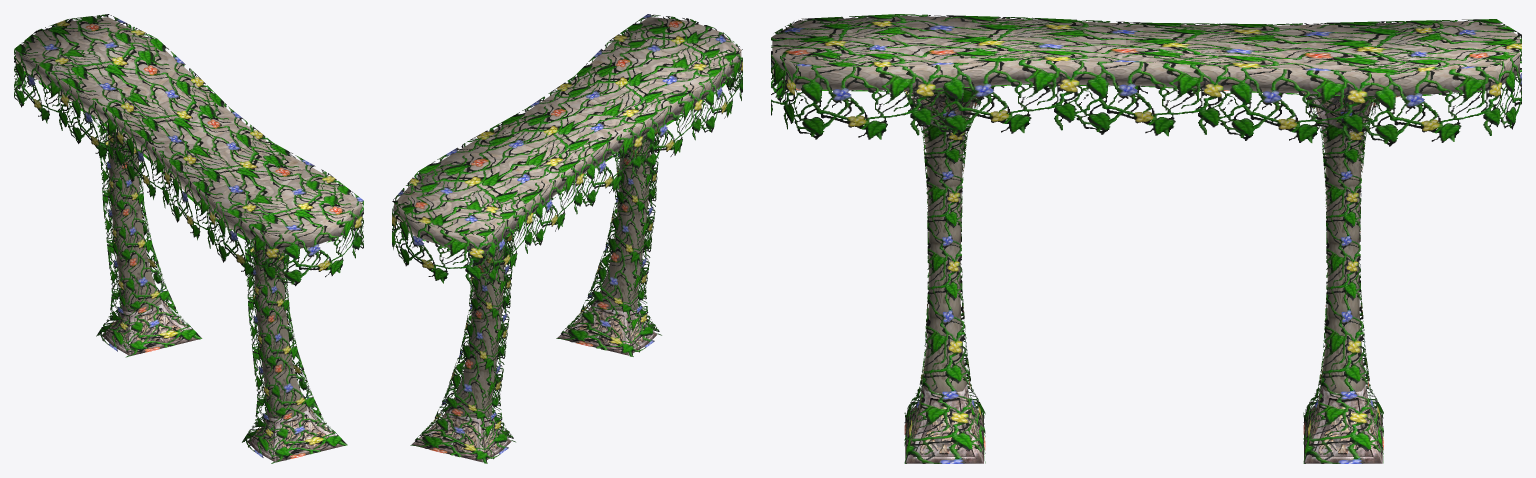
The model's file is EKH_THRONE_PS_TH_PILLAR48847__GX.fbx.
3 renders of one model, left to right at view 1: azimuth 30°, elevation 25°; view 2: azimuth 150°, elevation 25°; view 3: azimuth 270°, elevation 25°, orthographic. The views are drawn at different scales.
Parts seen in each view (by area): view 1: EKH_THRONE_PS_TH_PILLAR48847__GX; view 2: EKH_THRONE_PS_TH_PILLAR48847__GX; view 3: EKH_THRONE_PS_TH_PILLAR48847__GX.
Part boxes in pixels (x1,y1,x2,y2): EKH_THRONE_PS_TH_PILLAR48847__GX: [14, 14, 363, 463]; EKH_THRONE_PS_TH_PILLAR48847__GX: [392, 14, 742, 463]; EKH_THRONE_PS_TH_PILLAR48847__GX: [771, 14, 1521, 463].
Size of the model in its own units: 34318 by 72882 by 129686.
Materials: 8 (8 with a texture image).
